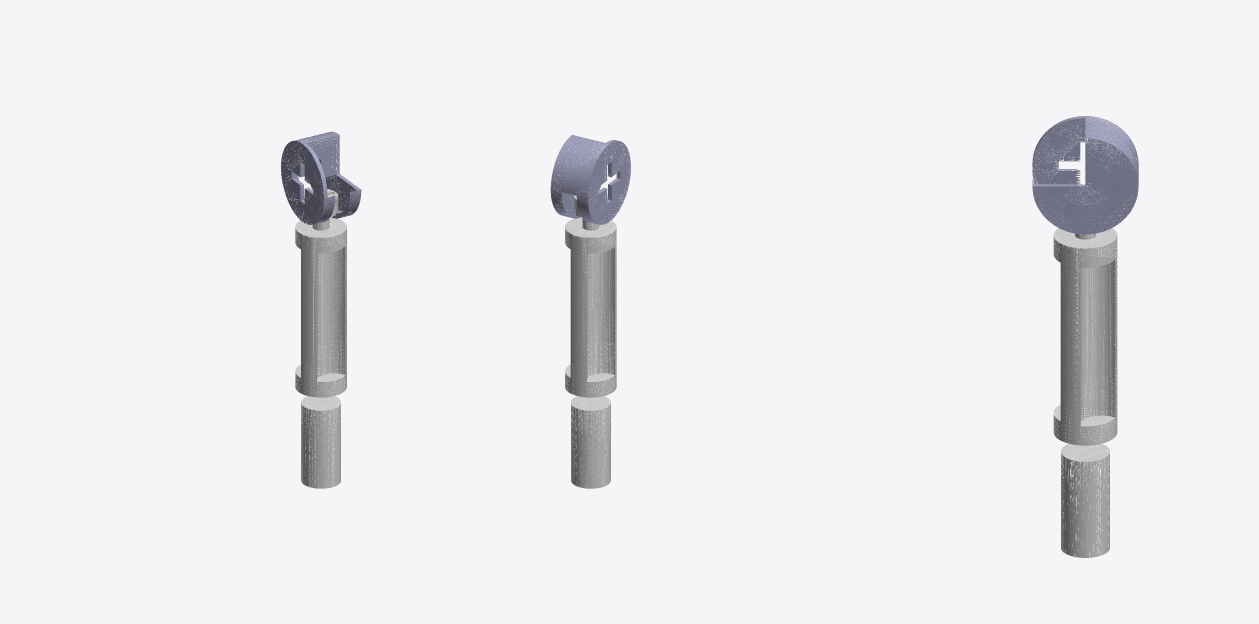
File: connected.gltf
3 views of the same model, side by side, from view 1: azimuth 30°, elevation 25°; view 2: azimuth 150°, elevation 25°; view 3: azimuth 270°, elevation 25° (orthographic). The views are drawn at different scales.
Visible parts, largest first — view 1: connected.fastener.screw, connected.fastener.anchor; view 2: connected.fastener.screw, connected.fastener.anchor; view 3: connected.fastener.screw, connected.fastener.anchor.
Part boxes in pixels (bbox=[...]): connected.fastener.screw: bbox=[295, 188, 346, 488]; connected.fastener.anchor: bbox=[281, 131, 361, 224]; connected.fastener.screw: bbox=[565, 188, 616, 488]; connected.fastener.anchor: bbox=[550, 135, 630, 224]; connected.fastener.screw: bbox=[1053, 187, 1117, 557]; connected.fastener.anchor: bbox=[1032, 116, 1138, 234].
Size of the model in its own units: 0.04 by 0.055 by 0.03.
